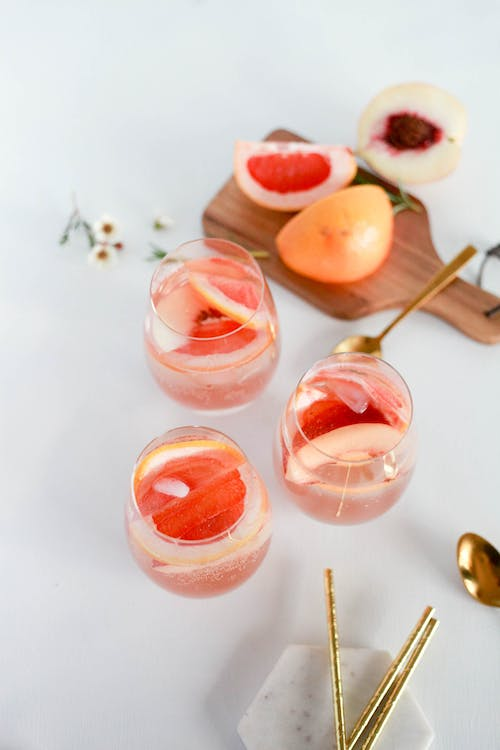alcohol: (123, 424, 274, 602), (144, 234, 283, 418), (274, 350, 416, 528)
